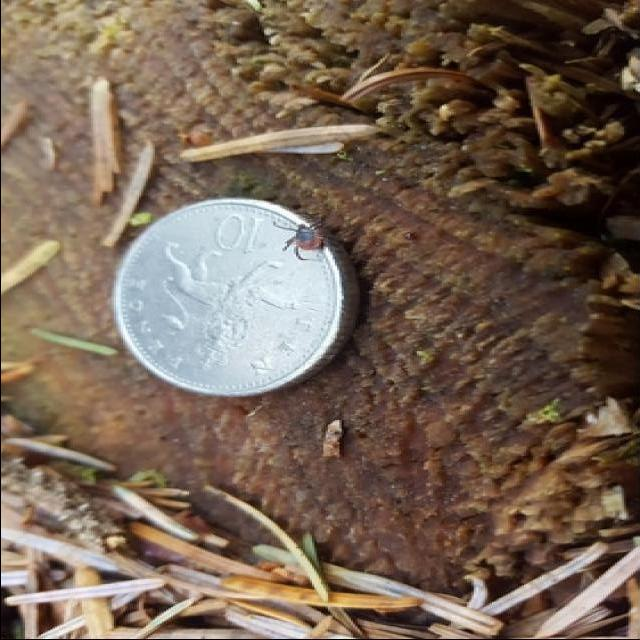Ixodes Ricinus-F: (271, 210, 326, 266)
